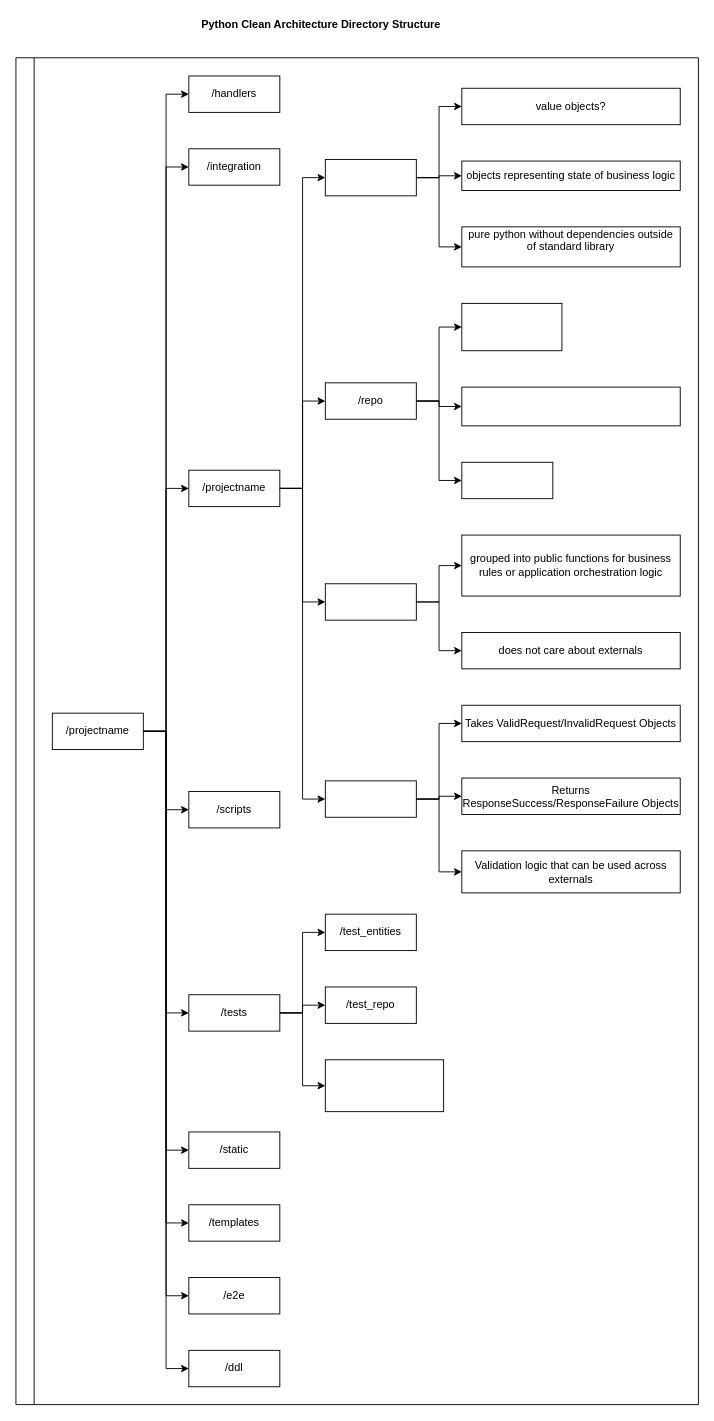
The diagram is 714 pixels wide and 1421 high, and some of its shapes have lost their labels. The centre of each missing label's shape, as x and y in pixels:
"/entities" belongs at [370,177].
"/entry" belongs at [370,798].
"/usecase" belongs at [370,601].
"low level I/O, api calls, database interaction" belongs at [570,406].
"One directory for each python source code folder in /projectname" belongs at [384,1085].
"persistance layer" belongs at [511,326].
"sql code defined as string" belongs at [507,480].
